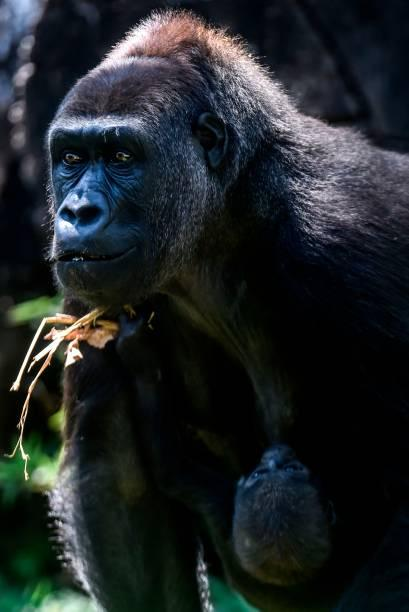gorille_Autres: (13, 5, 377, 612)
